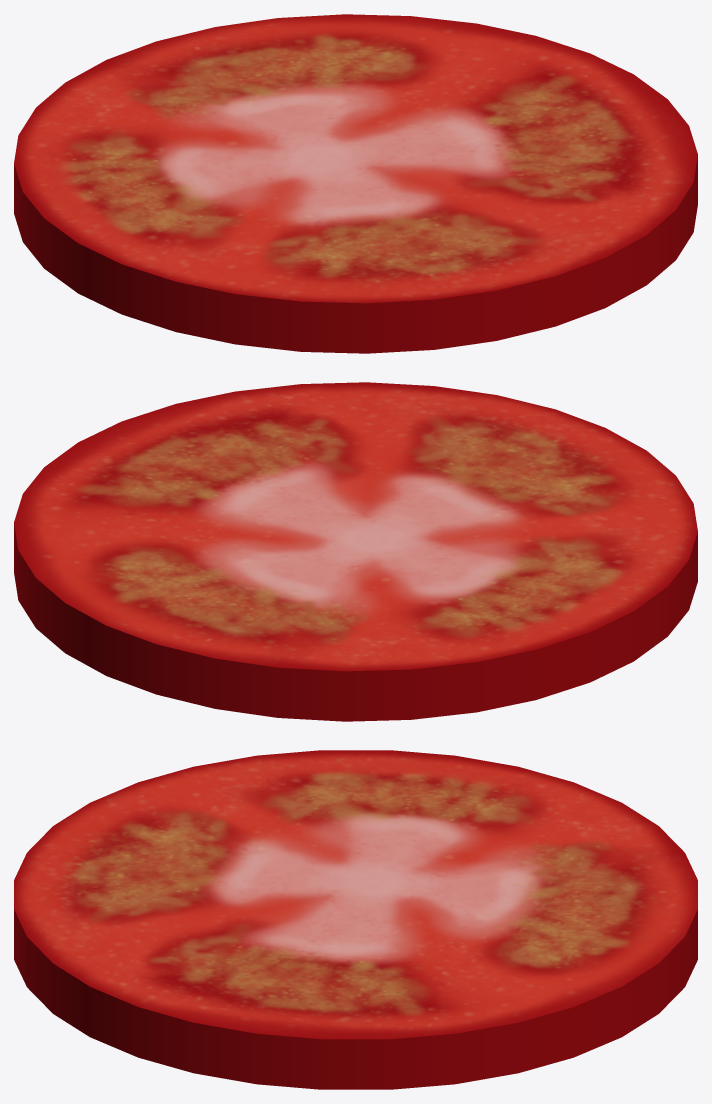
File: TomatoSlice.fbx
3 views of the same model, one above another, from view 1: azimuth 30°, elevation 25°; view 2: azimuth 150°, elevation 25°; view 3: azimuth 270°, elevation 25° (orthographic).
Parts seen in each view (by area): view 1: TomatoSlice; view 2: TomatoSlice; view 3: TomatoSlice.
Part boxes in pixels (x1,y1,x2,y2): TomatoSlice: (14,14,697,353); TomatoSlice: (14,382,697,721); TomatoSlice: (14,750,697,1089).
Bounding box in the file's own units: 196 × 16 × 196.
